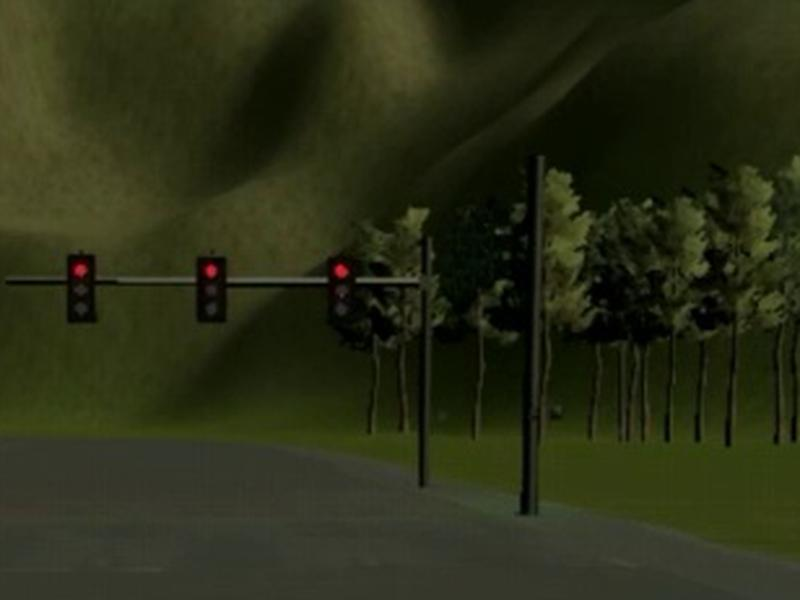Red: (67, 253, 96, 323), (196, 258, 227, 322), (328, 257, 356, 324)
